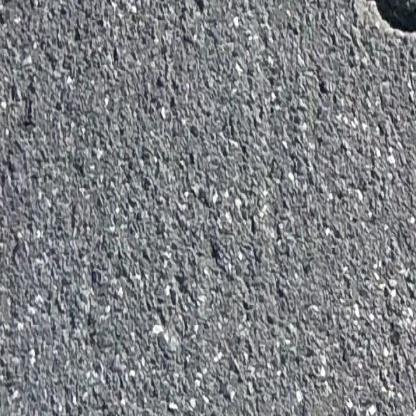Cracks: (351, 0, 416, 38)
